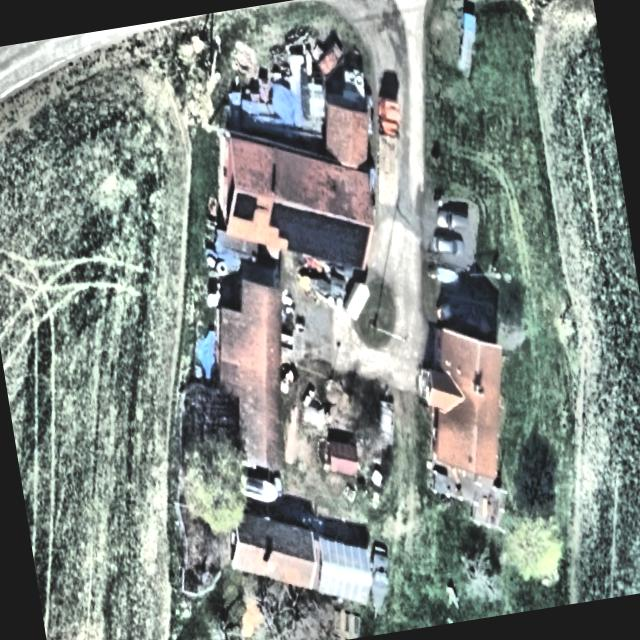roof_pv: (266, 188, 379, 282), (224, 183, 264, 231)
